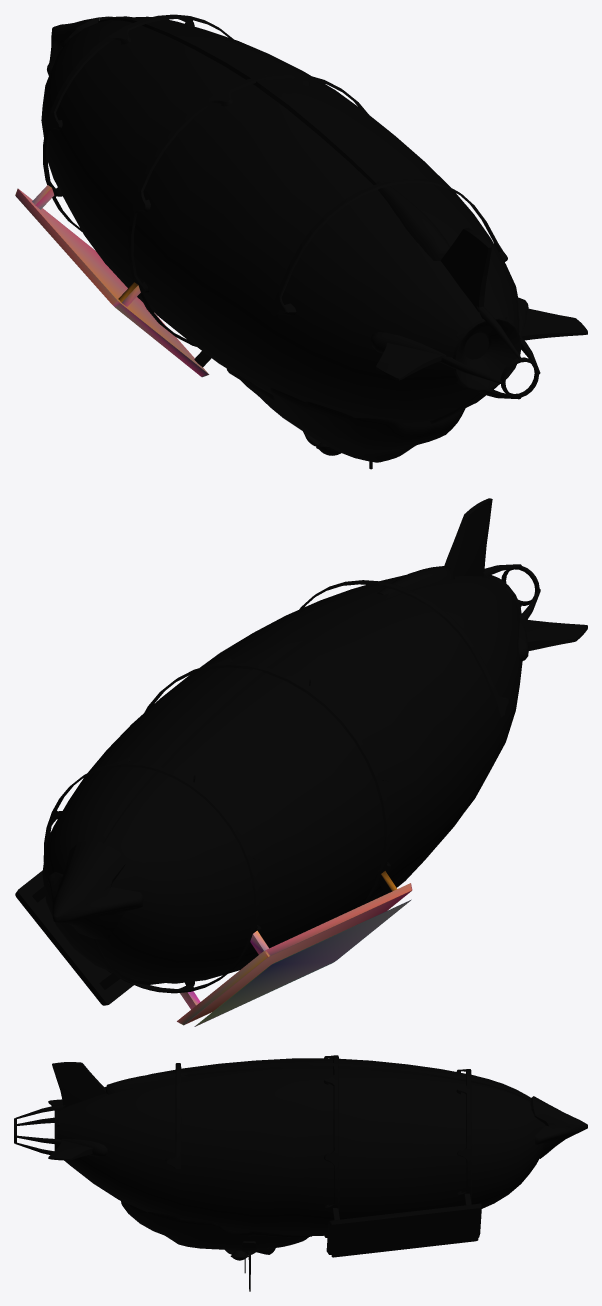
Rendered from Blimp_Offset_SM.gltf.
The picture shows the model from 3 angles, top to bottom: view 1: azimuth 30°, elevation 25°; view 2: azimuth 150°, elevation 25°; view 3: azimuth 270°, elevation 25°; orthographic projection. The views are drawn at different scales.
Parts seen in each view (by area): view 1: Blimp_Offset_SM; view 2: Blimp_Offset_SM; view 3: Blimp_Offset_SM.
Part boxes in pixels (x1,y1,x2,y2): Blimp_Offset_SM: [15, 14, 587, 469]; Blimp_Offset_SM: [15, 498, 587, 1026]; Blimp_Offset_SM: [14, 1055, 587, 1291].
Size of the model in its own units: 24.35 by 27.04 by 65.1.
